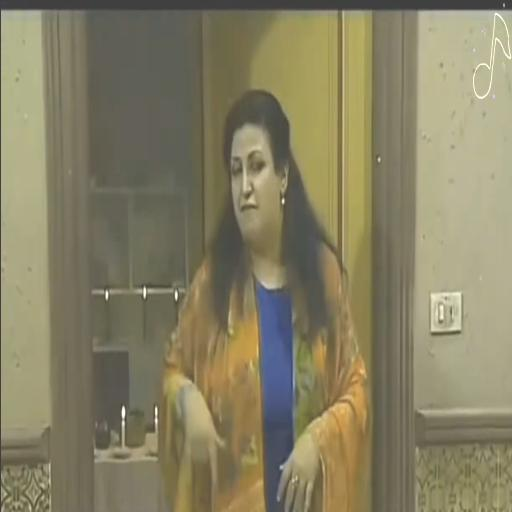jannet: (230, 124, 283, 242)
